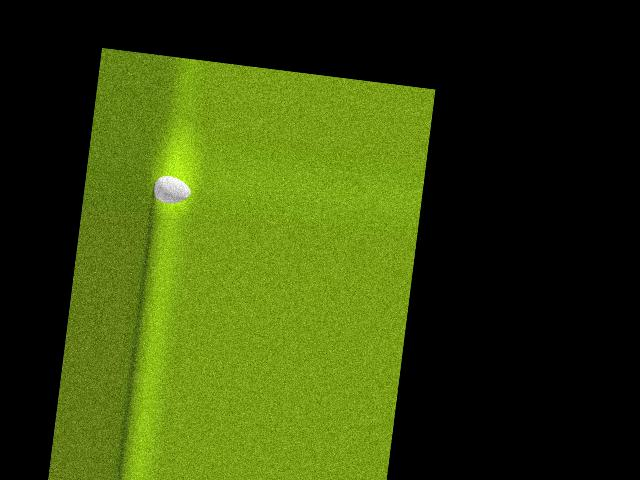egg: (152, 174, 192, 206)
